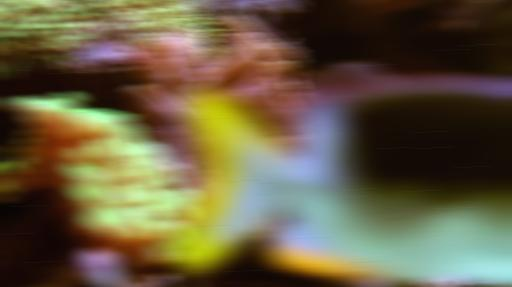Fish: (168, 75, 511, 282)
